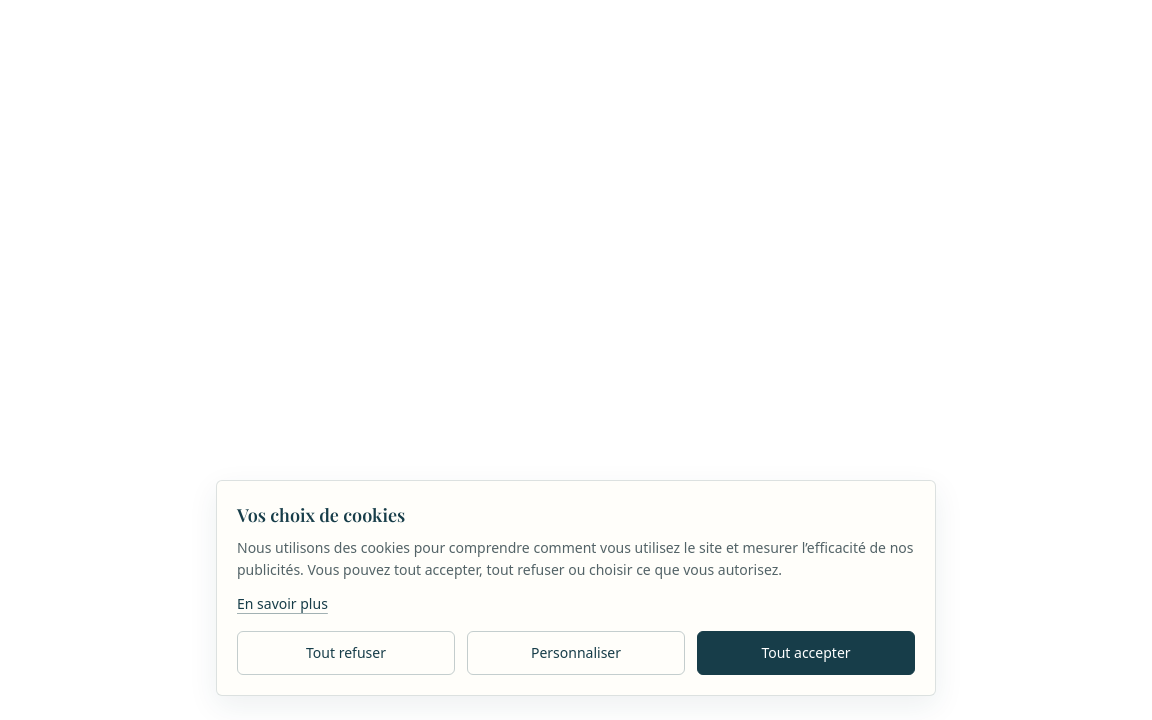
Scenario: CookieConsentManager › cancels the draft when closing preferences
This screenshot has width=1152, height=720.
Click the button "Personnaliser".
click(576, 653)  # box [467,631,685,675]
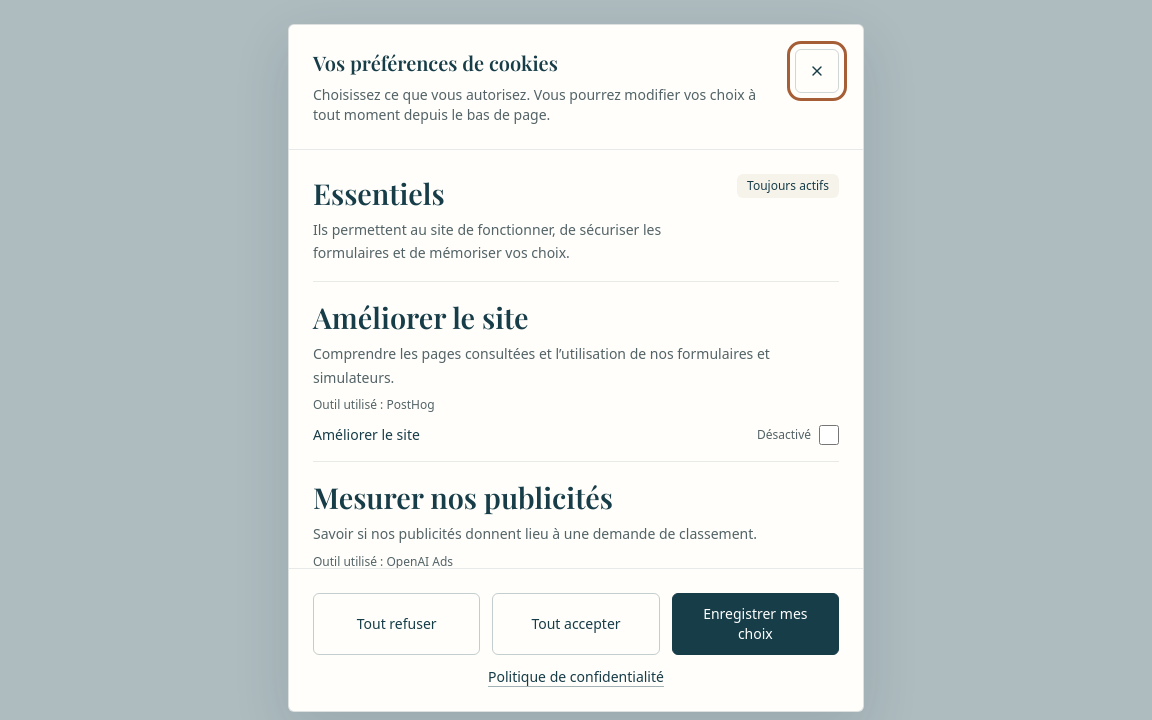
Click the checkbox labelled "Améliorer le site".
click(829, 435)  # box [819,425,839,445]
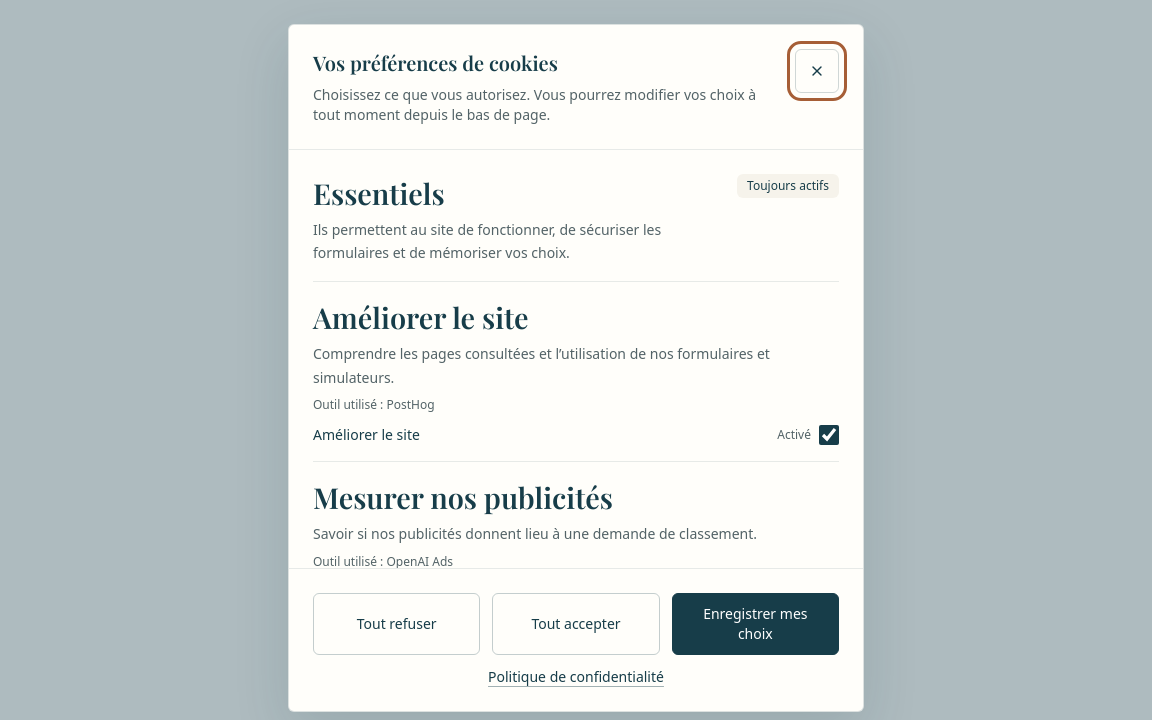
Click the button named "Fermer les préférences".
click(817, 71)  # box [795,49,839,93]
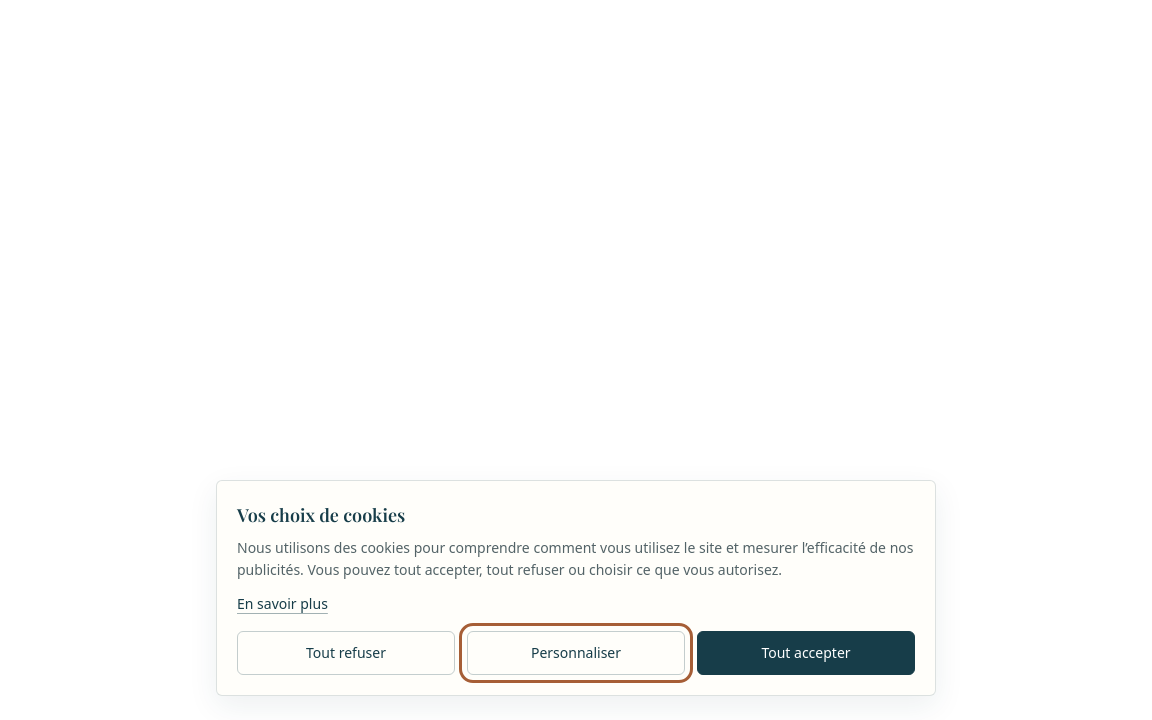
Expected: the dialog is gone
